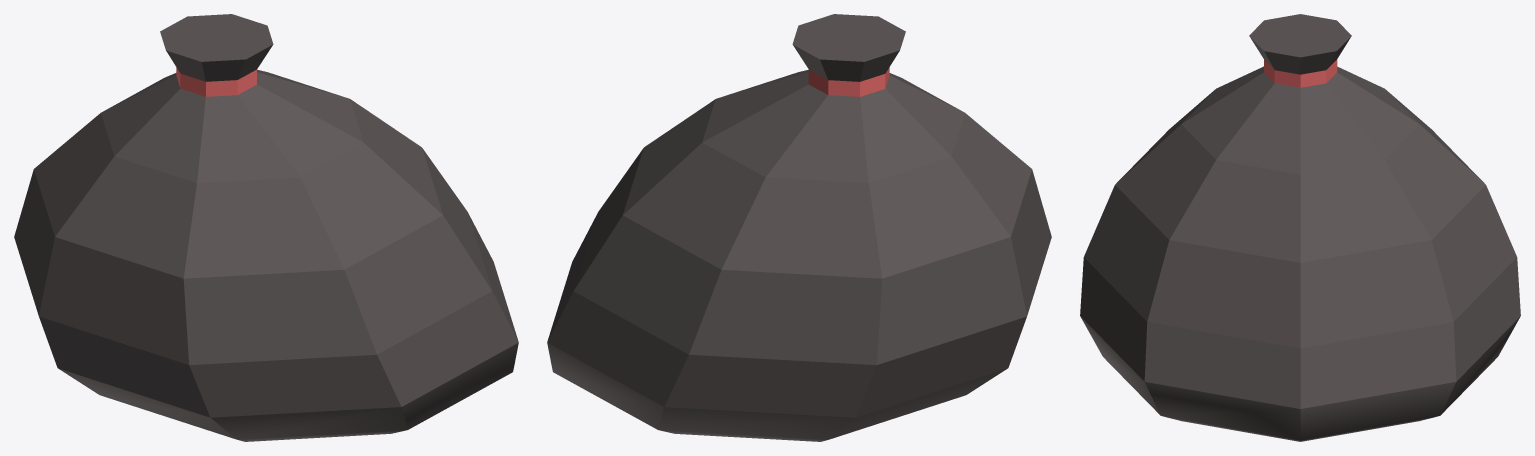
The model's file is trashbag1.fbx.
3 views of the same model, side by side, from view 1: azimuth 30°, elevation 25°; view 2: azimuth 150°, elevation 25°; view 3: azimuth 270°, elevation 25° (orthographic). The views are drawn at different scales.
Parts seen in each view (by area): view 1: pCylinder137; view 2: pCylinder137; view 3: pCylinder137.
Part boxes in pixels (x1,y1,x2,y2): pCylinder137: (14, 14, 518, 441); pCylinder137: (547, 14, 1051, 441); pCylinder137: (1080, 14, 1520, 441).
Bounding box in the file's own units: 87.29 × 63.18 × 83.7.
